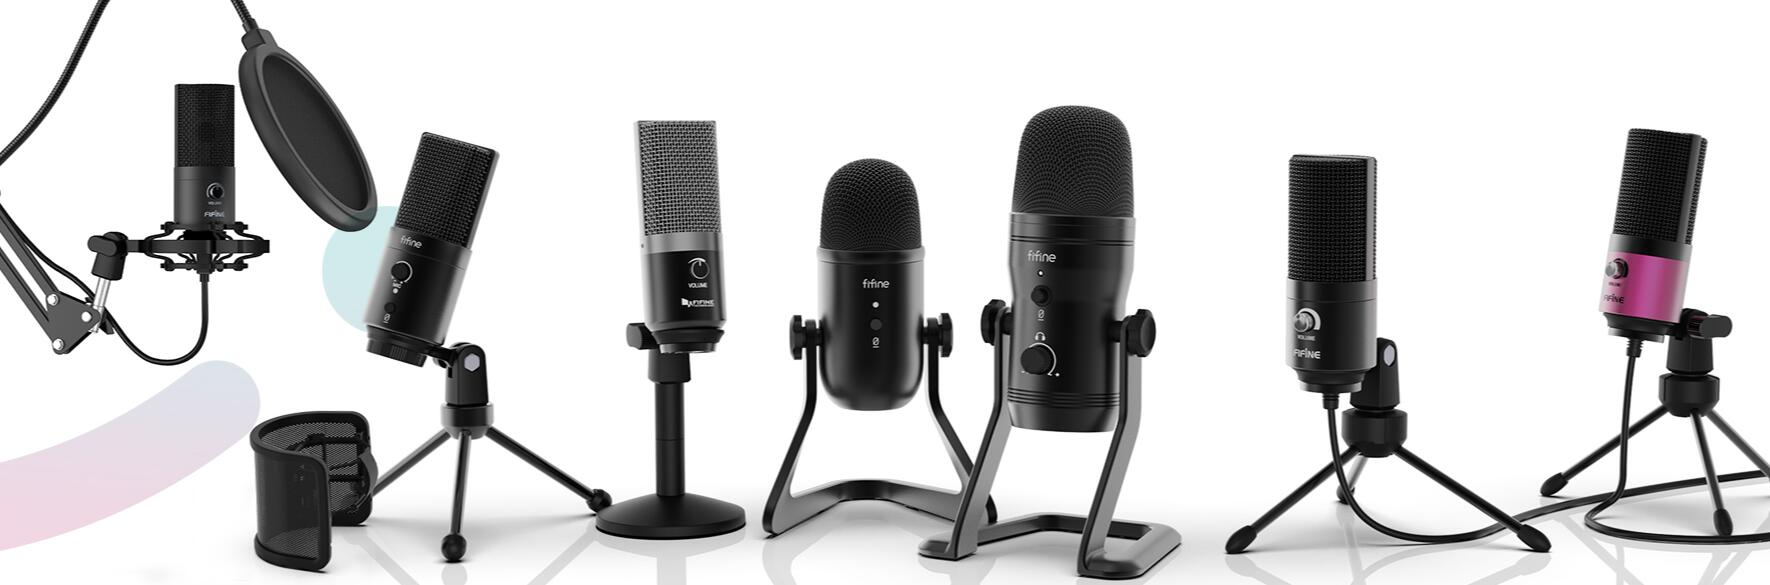microphone: (994, 101, 1147, 447), (776, 152, 962, 419), (116, 66, 281, 318), (356, 128, 503, 378), (1591, 116, 1730, 353), (1278, 150, 1400, 407), (631, 113, 734, 372)
